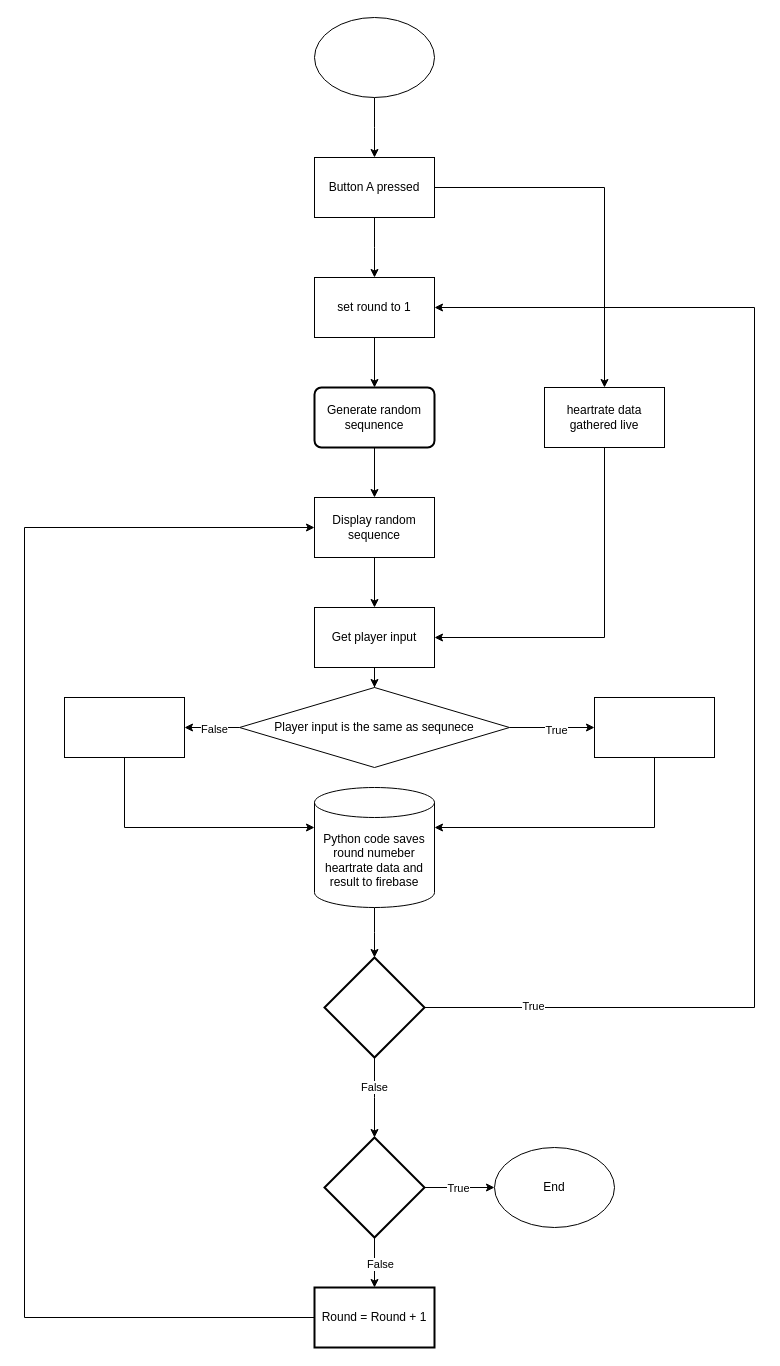
Some shapes in this 780 by 1366 pixel diagram are drawn without their labels. Here are the shapes that lost their labels. From the top down, the centre of each, then its label:
the point at 374,57: Start
the point at 124,727: Micro-Bit sends round number and loose to Thonny
the point at 654,727: Micro-Bit sends round number and win to Thonny
the point at 374,1007: Result = loose
the point at 374,1187: Result = 6
